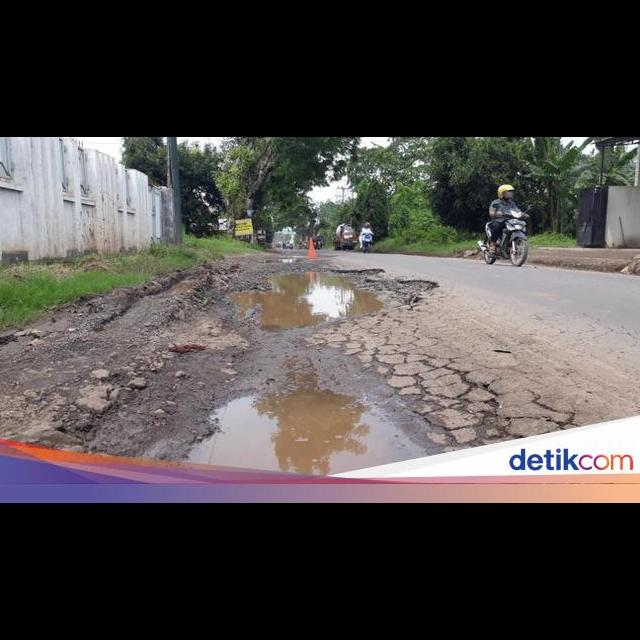lubang_kecil: (144, 363, 444, 464), (222, 258, 439, 342)
retak_kulit_buaya: (356, 328, 524, 436)
